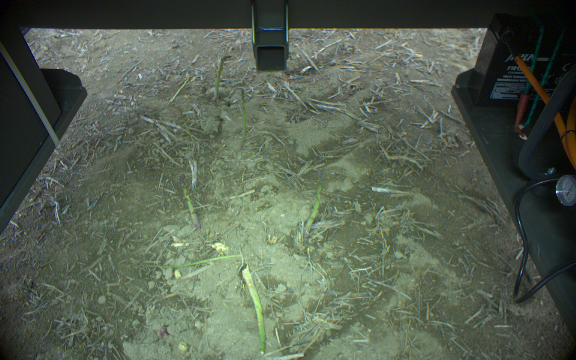aspa: (240, 263, 268, 354), (303, 169, 323, 242), (177, 173, 201, 231), (212, 54, 235, 103), (237, 87, 249, 150)
